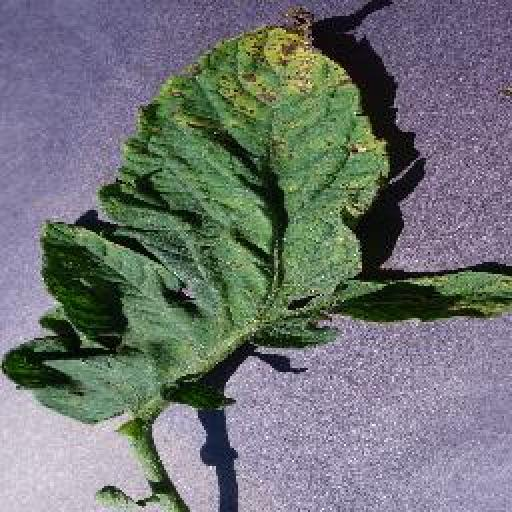Septoria: (4, 6, 512, 426)
